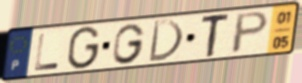D: (146, 18, 186, 64)
G: (65, 25, 103, 71), (111, 22, 147, 66)
L: (33, 32, 62, 73)
P: (229, 10, 272, 56)
T: (199, 11, 232, 60)
